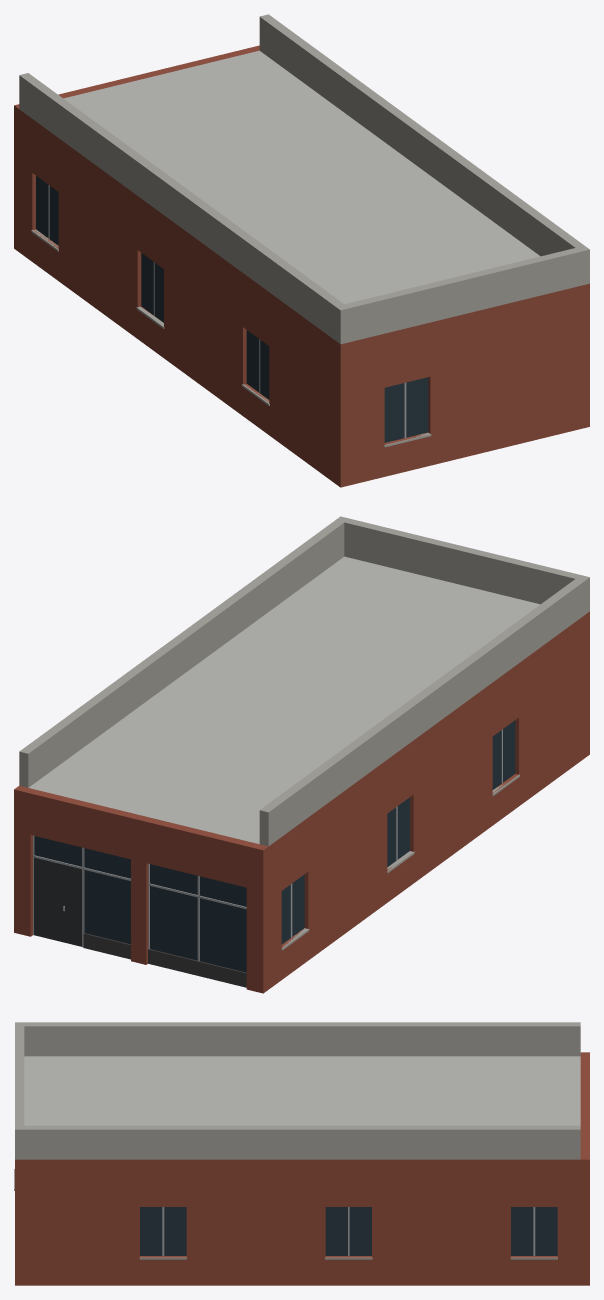
File: tf_dt_brick_1s_w8.glb
The picture shows the model from 3 angles, top to bottom: view 1: azimuth 30°, elevation 25°; view 2: azimuth 150°, elevation 25°; view 3: azimuth 270°, elevation 25°; orthographic projection. The views are drawn at different scales.
Visible parts, largest first — view 1: tf_dt_brick_1s_w8-col; view 2: tf_dt_brick_1s_w8-col; view 3: tf_dt_brick_1s_w8-col.
Boxes of the visible parts, x1=… form: tf_dt_brick_1s_w8-col: x1=14, y1=14, x2=589, y2=487; tf_dt_brick_1s_w8-col: x1=14, y1=516, x2=589, y2=993; tf_dt_brick_1s_w8-col: x1=14, y1=1022, x2=589, y2=1285.
Size of the model in its own units: 8.26 by 5.57 by 18.63.
